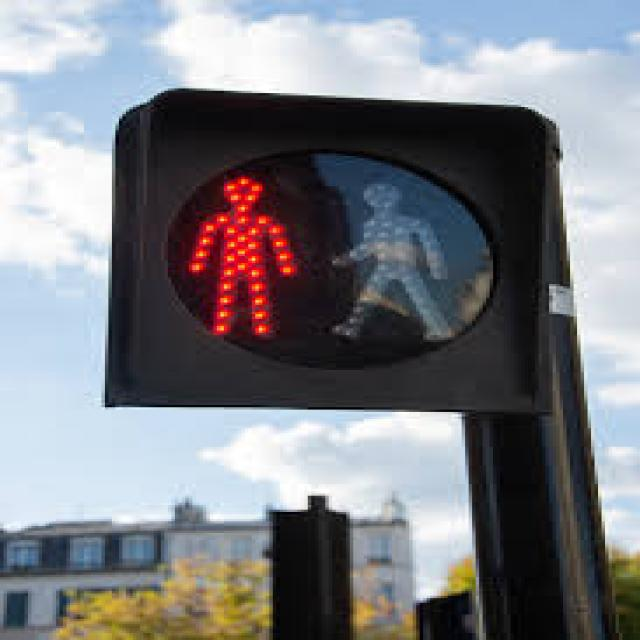Not go: (118, 152, 542, 432)
